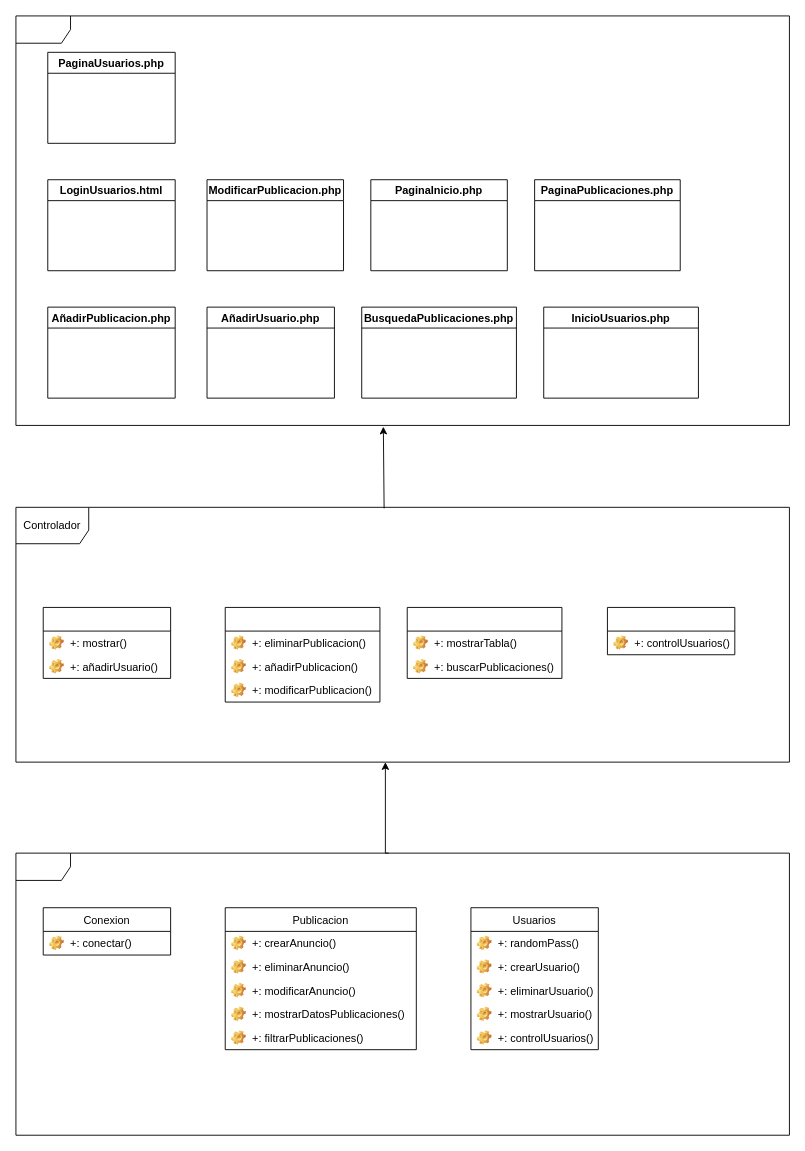
The diagram is 805 pixels wide and 1151 high, and some of its shapes have lost their labels. The shapes that lost their labels are listed below. From the top down, each one's box as (x1, y1, x2, y2) in pixels, then its label:
(15, 15, 789, 425): Vista
(42, 607, 171, 678): Controlador_Usuario
(406, 607, 562, 678): Controlador_Vista
(607, 607, 735, 655): Controlador_Generico
(224, 607, 380, 702): Controlador_Publicacion
(15, 852, 789, 1135): Modelo
